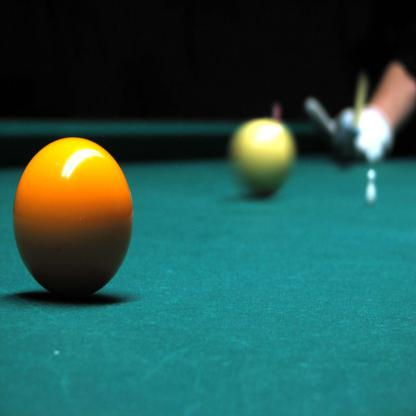Ball: (14, 138, 134, 298), (231, 118, 296, 194)
